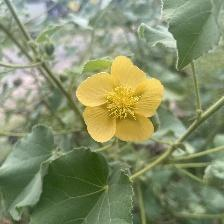indian mallow: (76, 57, 168, 146)
